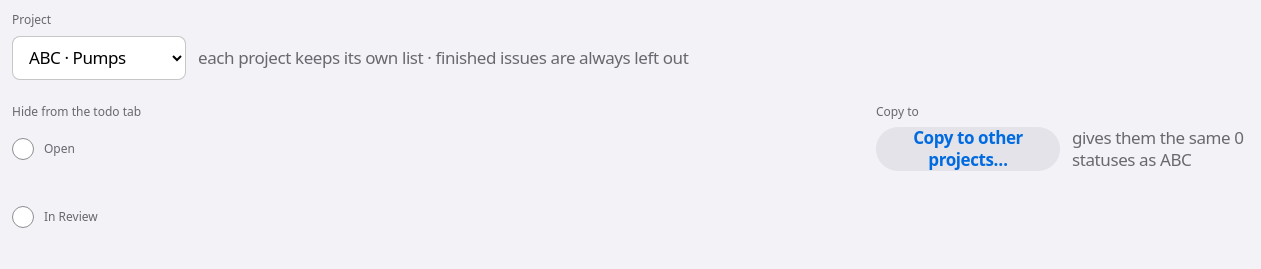
Test: copying to other projects › abandons a copy when the project underneath changes
Expected: the checkbox labelled "Open" is shown, x1=12 y1=138 x2=34 y2=160
Step 1. Click the button "Copy to other projects…" → {"x": 968, "y": 149}, box x1=876 y1=127 x2=1060 y2=171
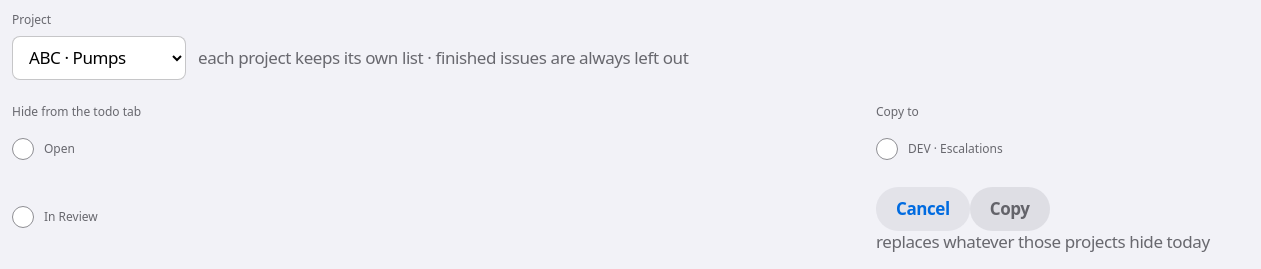
Step 2. Select "DEV · Escalations" in the dropdown → {"x": 99, "y": 58}, box x1=12 y1=36 x2=186 y2=80
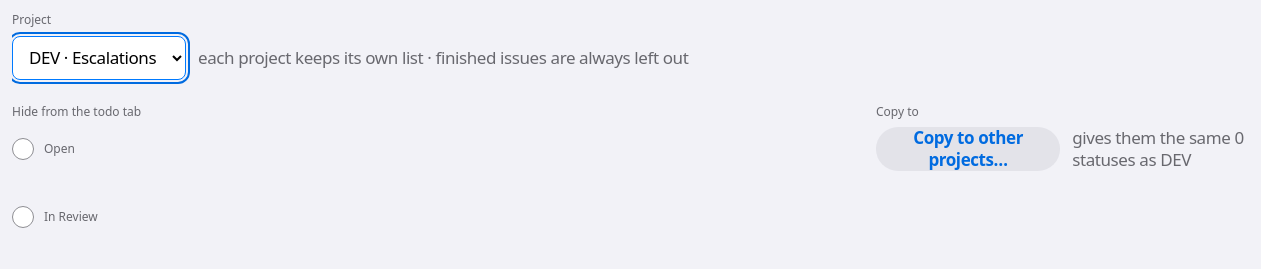
Expected: the button "Copy to other projects…" is shown, x1=876 y1=127 x2=1060 y2=171
